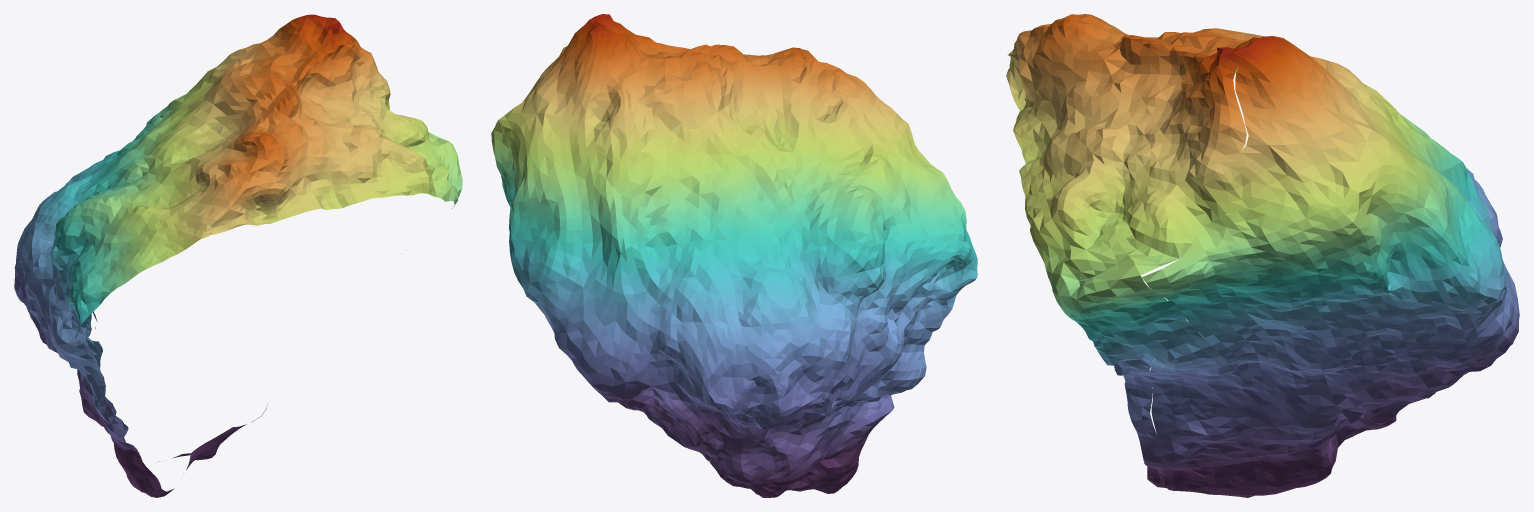
File: transform_gray-big-rock_heatmap.glb
The picture shows the model from 3 angles, left to right: view 1: azimuth 30°, elevation 25°; view 2: azimuth 150°, elevation 25°; view 3: azimuth 270°, elevation 25°; orthographic projection. The views are drawn at different scales.
Parts seen in each view (by area): view 1: world; view 2: world; view 3: world.
Boxes of the visible parts, x1=… form: world: x1=14, y1=14, x2=462, y2=497; world: x1=491, y1=14, x2=977, y2=497; world: x1=1006, y1=14, x2=1519, y2=497.
Bounding box in the file's own units: 1.66 × 1.67 × 1.33.
